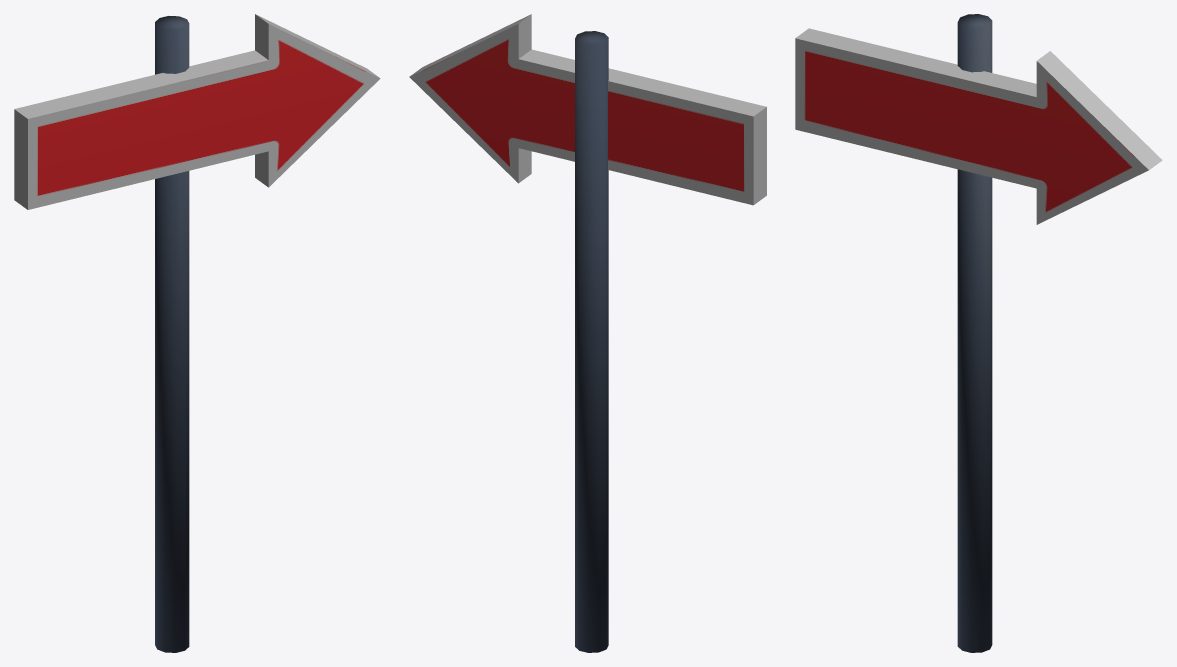
File: sign_02.glb
3 views of the same model, side by side, from view 1: azimuth 30°, elevation 25°; view 2: azimuth 150°, elevation 25°; view 3: azimuth 330°, elevation 25° (orthographic). The views are drawn at different scales.
Parts seen in each view (by area): view 1: Pole.002; view 2: Pole.002; view 3: Pole.002.
Boxes of the visible parts, x1,y1,x2,y2 form: Pole.002: [14, 14, 380, 652]; Pole.002: [409, 14, 766, 652]; Pole.002: [795, 14, 1162, 652].
Bounding box in the file's own units: 2.25 × 3.79 × 0.2837.
Materials: 1 (1 with a texture image).
